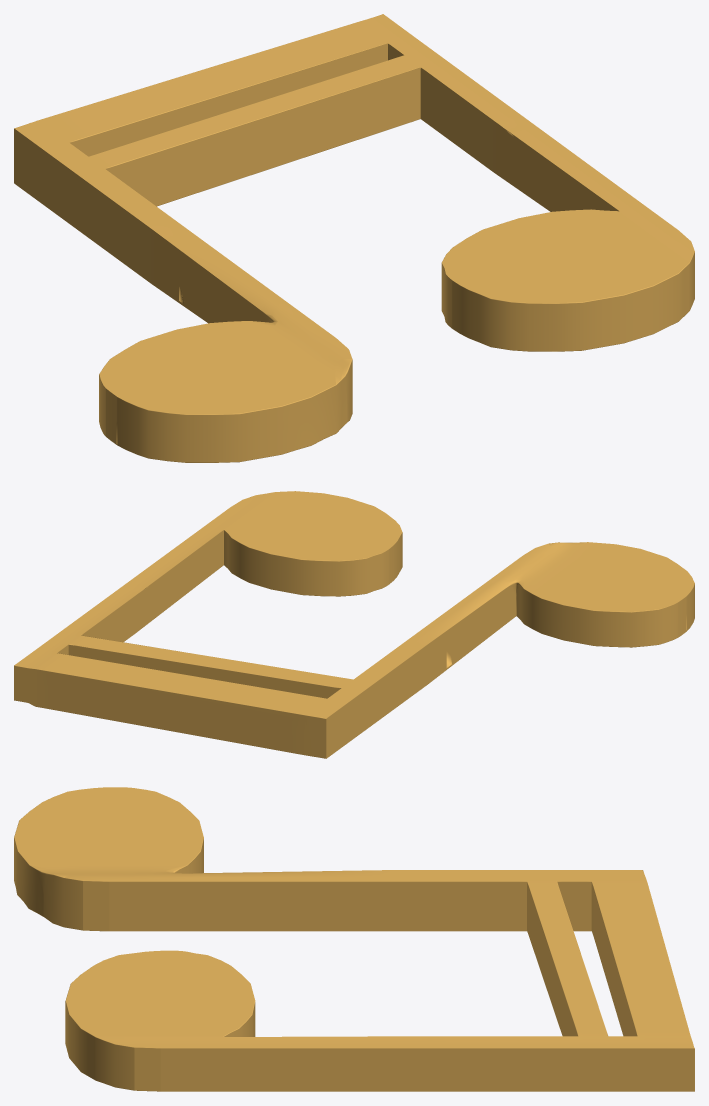
File: note1.fbx
3 renders of one model, top to bottom at view 1: azimuth 30°, elevation 25°; view 2: azimuth 150°, elevation 25°; view 3: azimuth 270°, elevation 25°, orthographic. The views are drawn at different scales.
Visible parts, largest first — view 1: Cube.001; view 2: Cube.001; view 3: Cube.001.
Part boxes in pixels (x1,y1,x2,y2): Cube.001: (14,14,694,462); Cube.001: (14,491,694,758); Cube.001: (14,787,694,1091).
Bounding box in the file's own units: 214 × 19.01 × 236.
